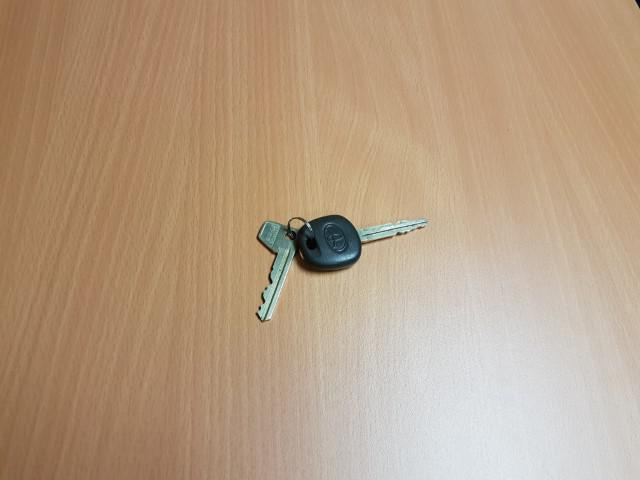key: (301, 215, 426, 269)
